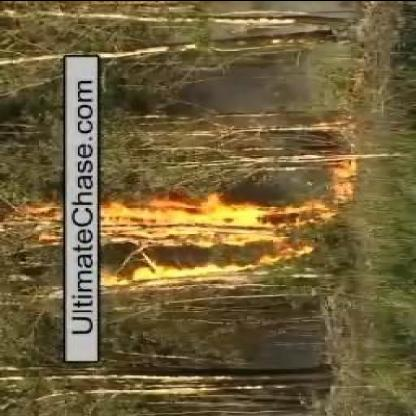foggia-v2-map80-epoch100 - v1 4323: (102, 198, 278, 238)
